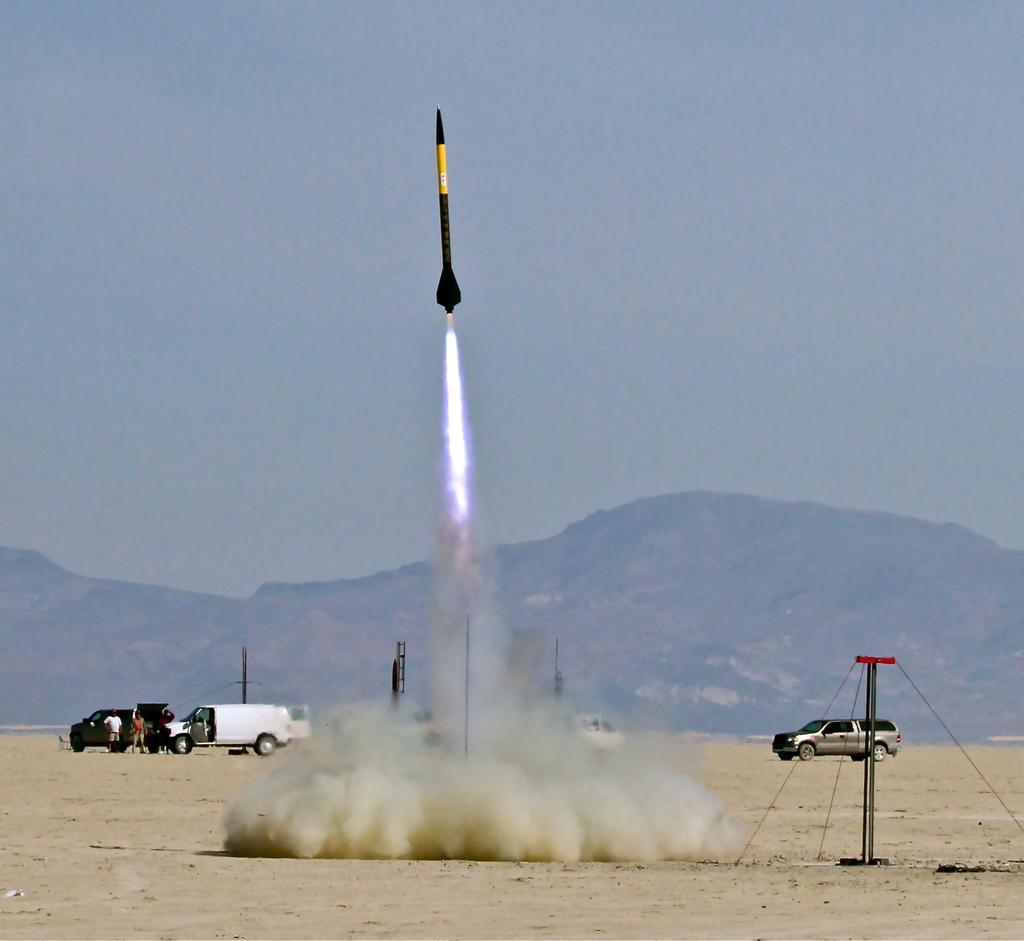Missile: (435, 103, 462, 315)
